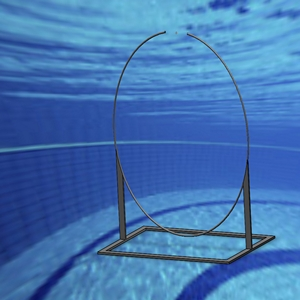circle: (98, 29, 276, 261)
